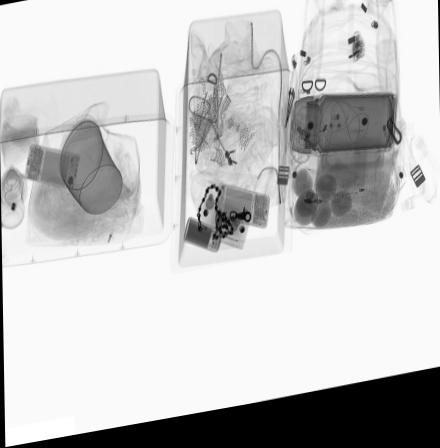Powerbank: (180, 221, 222, 259)
